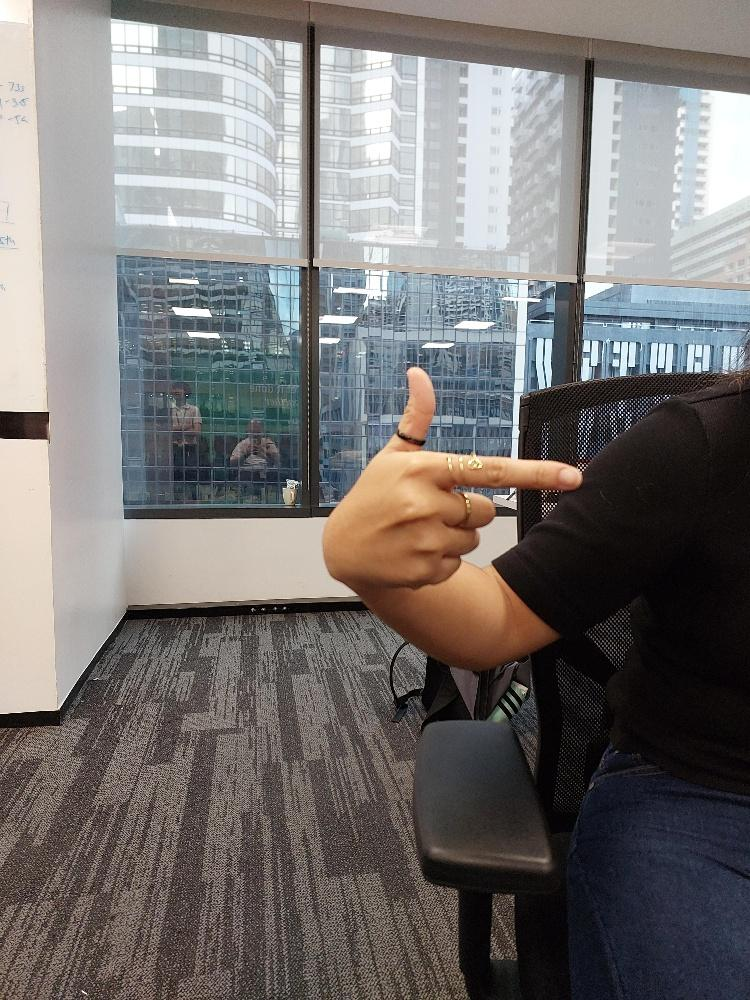g: (319, 364, 584, 593)
